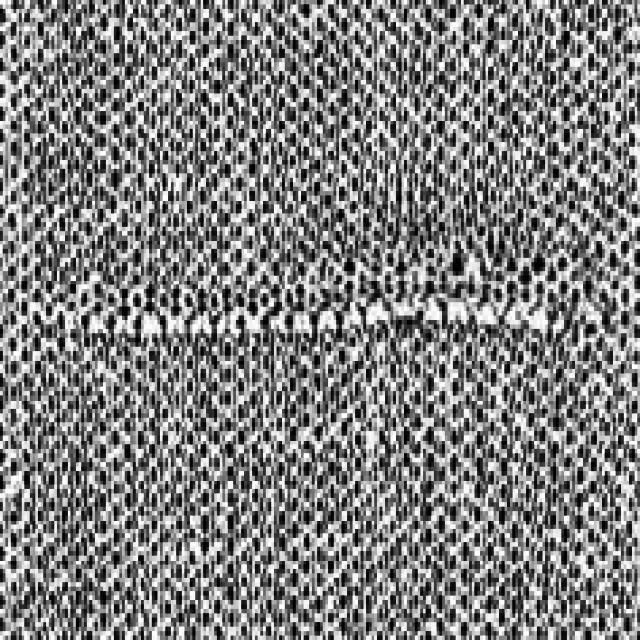color issues: (68, 261, 589, 363)
